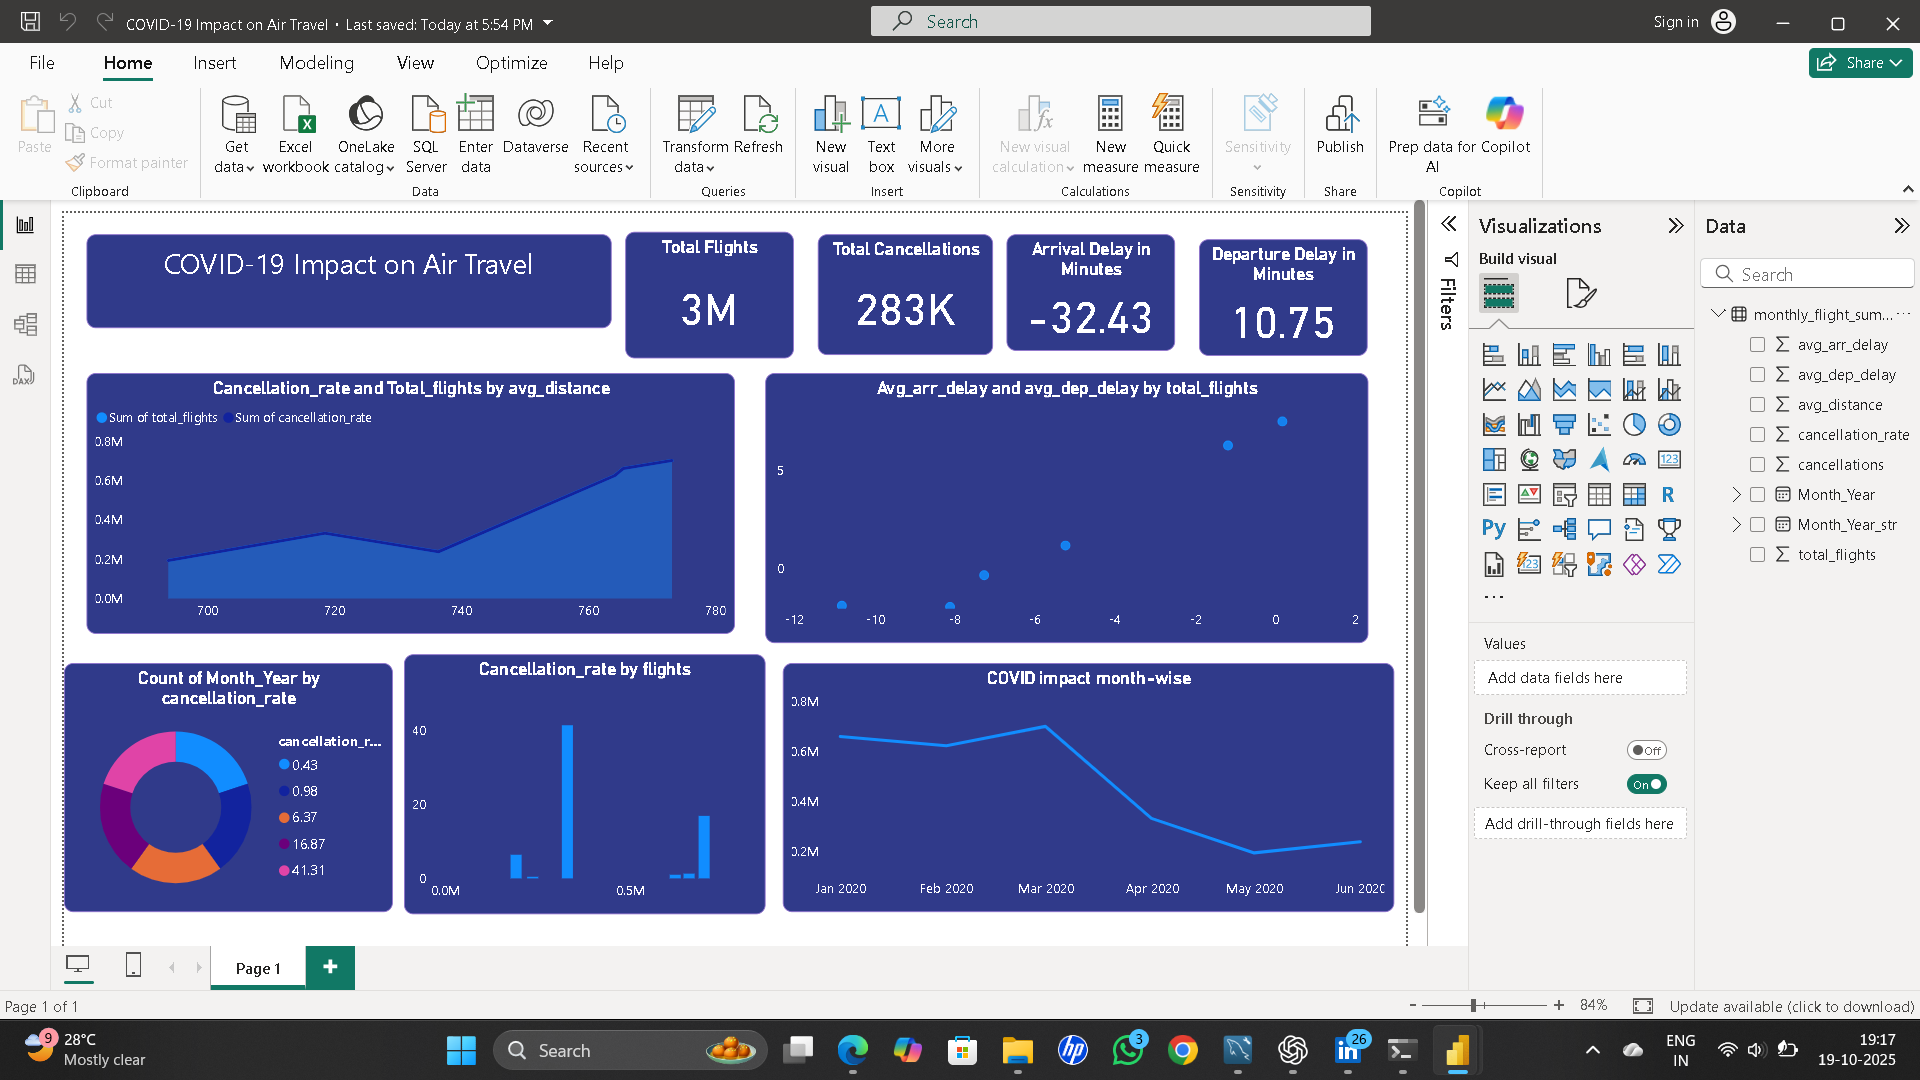

This screenshot's page, from the dashboard's own definition file:
{"tool":"powerbi","page":{"name":"Page 1","canvas":[1280,720],"ordinal":0},"visuals":[{"type":"card","title":"Total Flights","fields":{"Values":["Sum(monthly_flight_summary.total_flights)"]},"box":[535.2,17.8,160.5,120.8],"z":0},{"type":"card","title":"Total Cancellations","fields":{"Values":["Sum(monthly_flight_summary.cancellations)"]},"box":[719,20.6,167.4,115.3],"z":1},{"type":"card","title":" Arrival Delay in Minutes","fields":{"Values":["Sum(monthly_flight_summary.avg_arr_delay)"]},"box":[898.8,20.6,160.5,111.1],"z":2},{"type":"card","title":"Departure Delay in Minutes","fields":{"Values":["Sum(monthly_flight_summary.avg_dep_delay)"]},"box":[1082.7,24.7,160.5,111.1],"z":3},{"type":"lineChart","title":"COVID impact month-wise","fields":{"Y":["Sum(monthly_flight_summary.total_flights)"],"Category":["monthly_flight_summary.Month_Year_str.Variation.Date Hierarchy.Year","monthly_flight_summary.Month_Year_str.Variation.Date Hierarchy.Month"]},"box":[685.4,429.1,582.9,237.2],"z":4},{"type":"clusteredColumnChart","title":"Cancellation_rate by flights","fields":{"Category":["monthly_flight_summary.total_flights"],"Y":["Sum(monthly_flight_summary.cancellation_rate)"]},"box":[324.2,420.8,344.5,247.9],"z":5},{"type":"scatterChart","title":"Avg_arr_delay and avg_dep_delay by total_flights","fields":{"X":["Sum(monthly_flight_summary.avg_arr_delay)"],"Y":["Sum(monthly_flight_summary.avg_dep_delay)"],"Category":["monthly_flight_summary.total_flights"]},"box":[668.3,152.3,575,258],"z":6},{"type":"donutChart","fields":{"Y":["Count(monthly_flight_summary.Month_Year)"],"Category":["monthly_flight_summary.cancellation_rate"]},"box":[0,429.1,313.5,237.2],"z":7},{"type":"stackedAreaChart","title":"Cancellation_rate and Total_flights by avg_distance","fields":{"Y":["Sum(monthly_flight_summary.total_flights)","Sum(monthly_flight_summary.cancellation_rate)"],"Category":["monthly_flight_summary.avg_distance"]},"box":[21.5,152.6,618.7,249.1],"z":8},{"type":"textbox","box":[21.5,20.3,500.7,89.4],"z":9}]}

Visuals, with their boxes on the page's 1280x720 design canvas (x1, y1, x2, y2). These are canvas units, not pixel positions in the 1920x1080 screenshot, which may show the page scaled, cropped or inside an application window:
"Total Flights" card: left=535, top=18, right=696, bottom=139
"Total Cancellations" card: left=719, top=21, right=886, bottom=136
" Arrival Delay in Minutes" card: left=899, top=21, right=1059, bottom=132
"Departure Delay in Minutes" card: left=1083, top=25, right=1243, bottom=136
"COVID impact month-wise" lineChart: left=685, top=429, right=1268, bottom=666
"Cancellation_rate by flights" clusteredColumnChart: left=324, top=421, right=669, bottom=669
"Avg_arr_delay and avg_dep_delay by total_flights" scatterChart: left=668, top=152, right=1243, bottom=410
donutChart - Count(monthly_flight_summary.Month_Year) x monthly_flight_summary.cancellation_rate: left=0, top=429, right=314, bottom=666
"Cancellation_rate and Total_flights by avg_distance" stackedAreaChart: left=22, top=153, right=640, bottom=402
textbox: left=22, top=20, right=522, bottom=110
